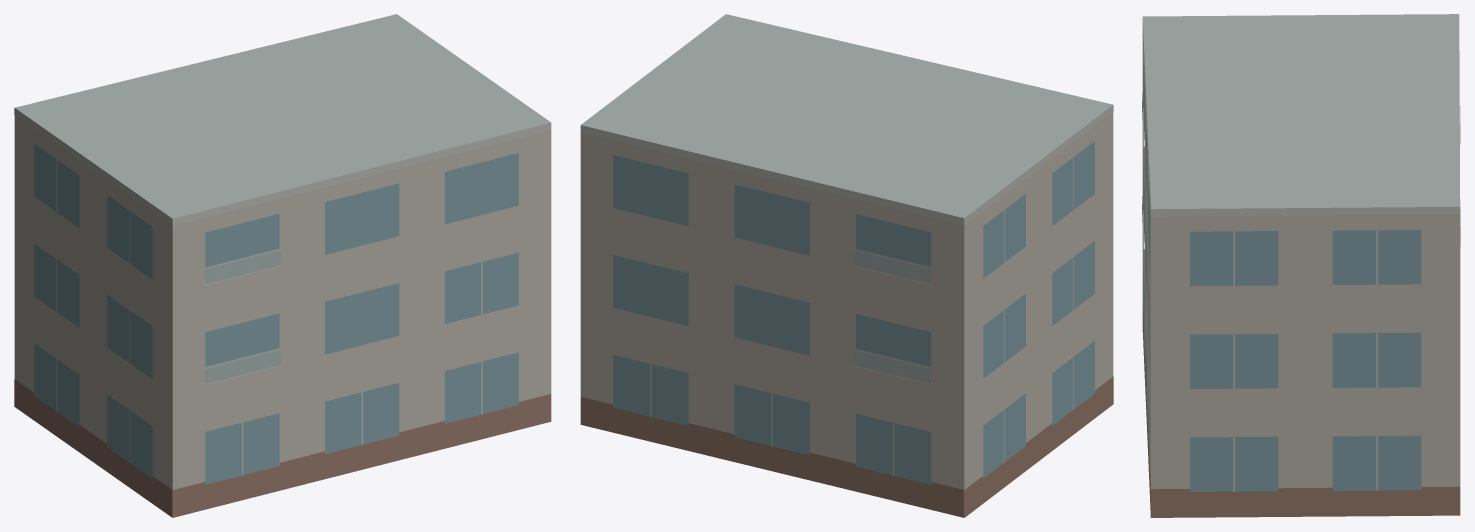
The model's file is survey-upis-32613267.glb.
3 views of the same model, side by side, from view 1: azimuth 30°, elevation 25°; view 2: azimuth 150°, elevation 25°; view 3: azimuth 270°, elevation 25° (orthographic). The views are drawn at different scales.
Parts seen in each view (by area): view 1: survey-upis-32613267.tmp; view 2: survey-upis-32613267.tmp; view 3: survey-upis-32613267.tmp.
Boxes of the visible parts, x1,y1,x2,y2 form: survey-upis-32613267.tmp: (14,14,551,517); survey-upis-32613267.tmp: (580,14,1113,517); survey-upis-32613267.tmp: (1142,14,1460,517).
Bounding box in the file's own units: 13.7 × 10.1 × 9.45.
